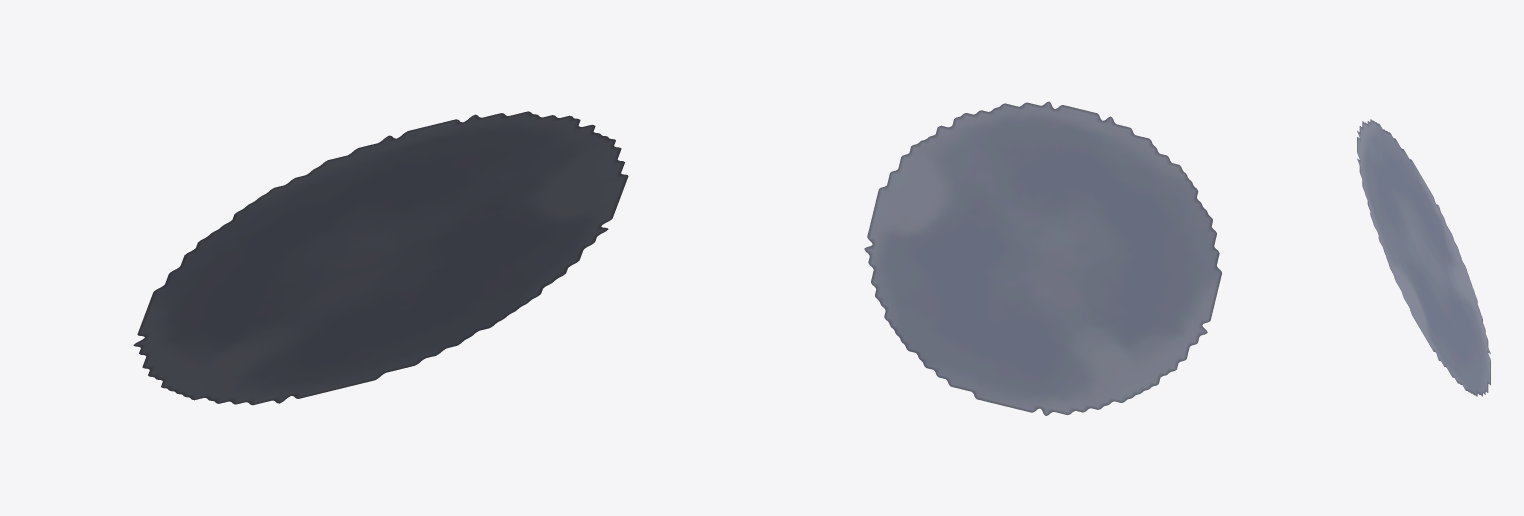
File: billboards.glb
3 views of the same model, side by side, from view 1: azimuth 30°, elevation 25°; view 2: azimuth 150°, elevation 25°; view 3: azimuth 270°, elevation 25° (orthographic). The views are drawn at different scales.
Parts seen in each view (by area): view 1: rsrc.world.tileset.clockworks_white.billboards-Submesh[0]; view 2: rsrc.world.tileset.clockworks_white.billboards-Submesh[0]; view 3: rsrc.world.tileset.clockworks_white.billboards-Submesh[0].
Part boxes in pixels (x1,y1,x2,y2): rsrc.world.tileset.clockworks_white.billboards-Submesh[0]: (133, 111, 628, 405); rsrc.world.tileset.clockworks_white.billboards-Submesh[0]: (864, 101, 1221, 415); rsrc.world.tileset.clockworks_white.billboards-Submesh[0]: (1357, 119, 1490, 396).
Bounding box in the file's own units: 0.2927 × 0.1995 × 0.1067.
1 material, 1 textured.
